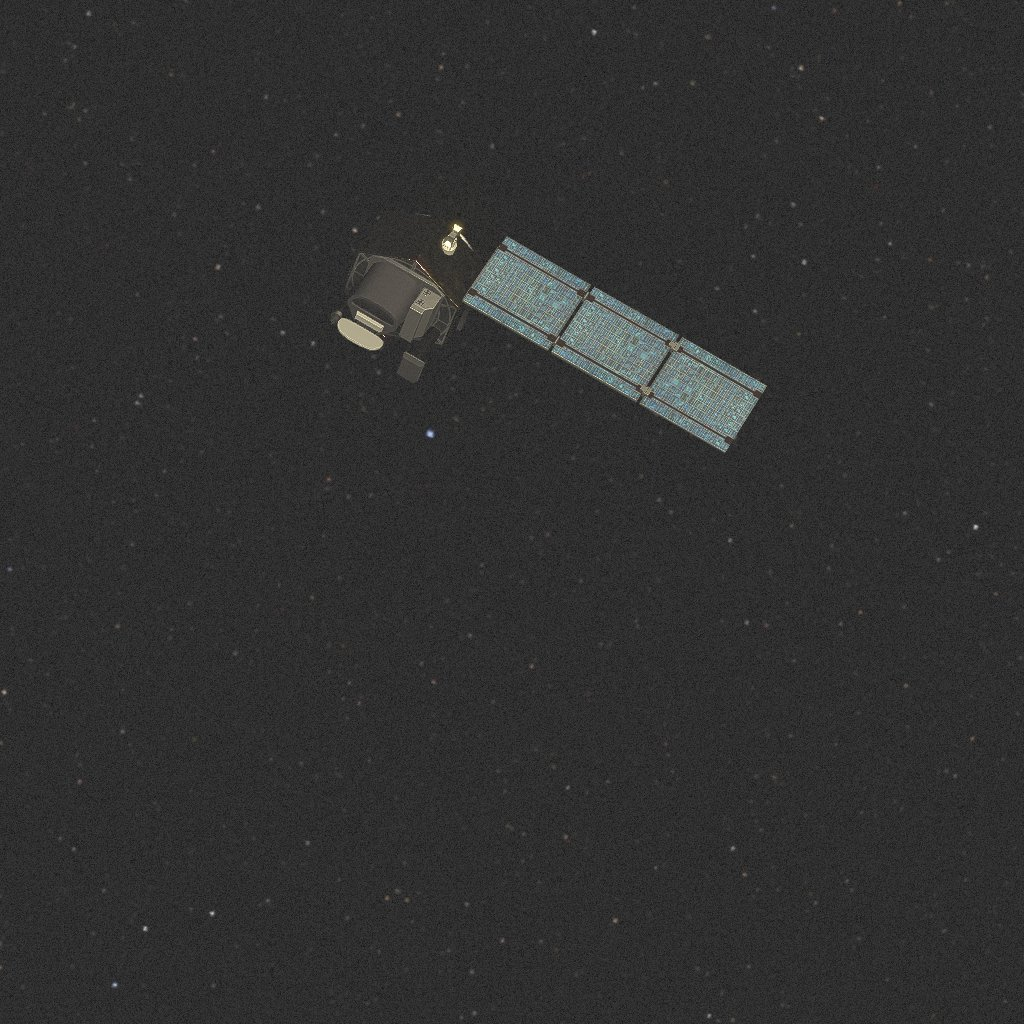earth_observation_sat_1: (330, 209, 767, 453)
